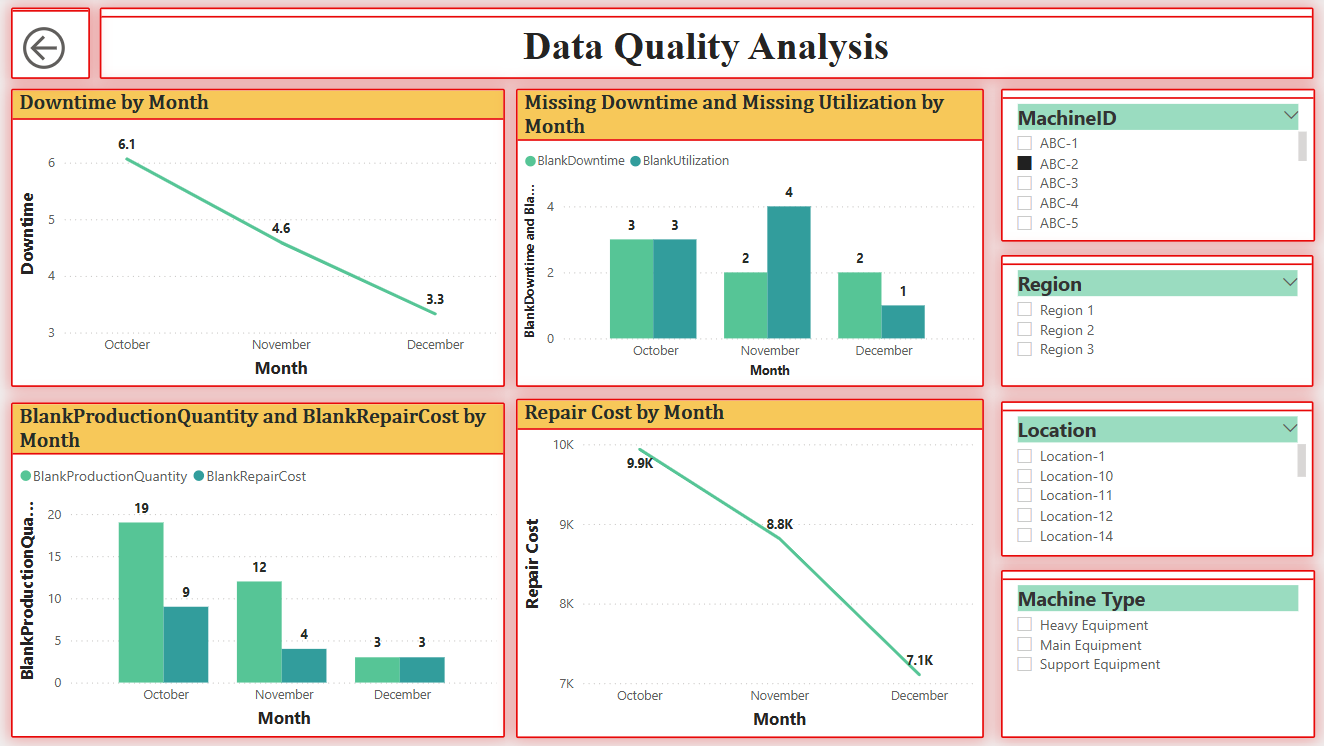

This screenshot's page, from the dashboard's own definition file:
{"tool":"powerbi","page":{"name":"DQ","canvas":[1280,720],"ordinal":1},"visuals":[{"type":"textbox","box":[99.2,12.1,1155.6,67.8],"z":0},{"type":"slicer","fields":{"Values":["KPI.MachineID"]},"box":[957.2,89.5,298.9,145.2],"z":1000},{"type":"slicer","fields":{"Values":["DimLoc.Region"]},"box":[957.6,247.9,298,126],"z":2000},{"type":"slicer","fields":{"Values":["DimLoc.Location"]},"box":[957.6,387.4,298,147.6],"z":3000},{"type":"slicer","fields":{"Values":["DimMachine.Machine Type"]},"box":[957.2,548.2,298.9,159.7],"z":4000},{"type":"lineChart","fields":{"Y":["Sum(DQ.Downtime)"],"Category":["DQ.Date.Variation.Date Hierarchy.Month"]},"box":[14.5,89.5,470.7,284.4],"z":5000},{"type":"clusteredColumnChart","title":"Missing Downtime and Missing Utilization by Month","fields":{"Y":["DQ.BlankDowntime","DQ.BlankUtilization"],"Category":["DQ.Date.Variation.Date Hierarchy.Month"]},"box":[494.9,89.5,445.3,284.4],"z":6000},{"type":"clusteredColumnChart","fields":{"Y":["DQ.BlankProductionQuantity","DQ.BlankRepairCost"],"Category":["DQ.Date.Variation.Date Hierarchy.Month"]},"box":[14.5,388.4,470.7,319.5],"z":7000},{"type":"lineChart","fields":{"Y":["Sum(DQ.Repair Cost)"],"Category":["DQ.Date.Variation.Date Hierarchy.Month"]},"box":[494.9,384.8,445.3,323.1],"z":8000},{"type":"actionButton","box":[14.5,12.1,75,67.8],"z":9000}]}

Visuals, with their boxes in screenshot pixels (x1, y1, x2, y2), scaled from the page's 1280x720 canvas onto the 1324x746 screenshot:
textbox: 103/13/1298/83
slicer - KPI.MachineID: 990/93/1299/243
slicer - DimLoc.Region: 991/257/1299/387
slicer - DimLoc.Location: 991/401/1299/554
slicer - DimMachine.Machine Type: 990/568/1299/733
lineChart - Sum(DQ.Downtime) x DQ.Date.Variation.Date Hierarchy.Month: 15/93/502/387
"Missing Downtime and Missing Utilization by Month" clusteredColumnChart: 512/93/973/387
clusteredColumnChart - DQ.BlankProductionQuantity x DQ.BlankRepairCost: 15/402/502/733
lineChart - Sum(DQ.Repair Cost) x DQ.Date.Variation.Date Hierarchy.Month: 512/399/973/733
actionButton: 15/13/93/83
